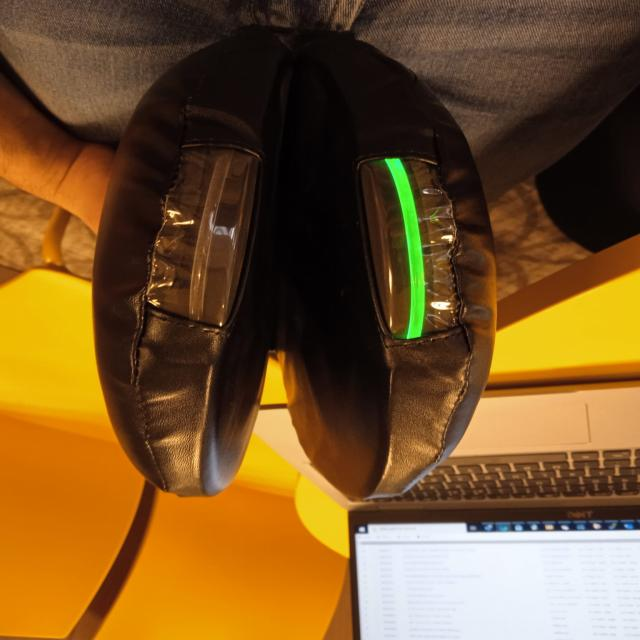trigger: (387, 156, 432, 344)
